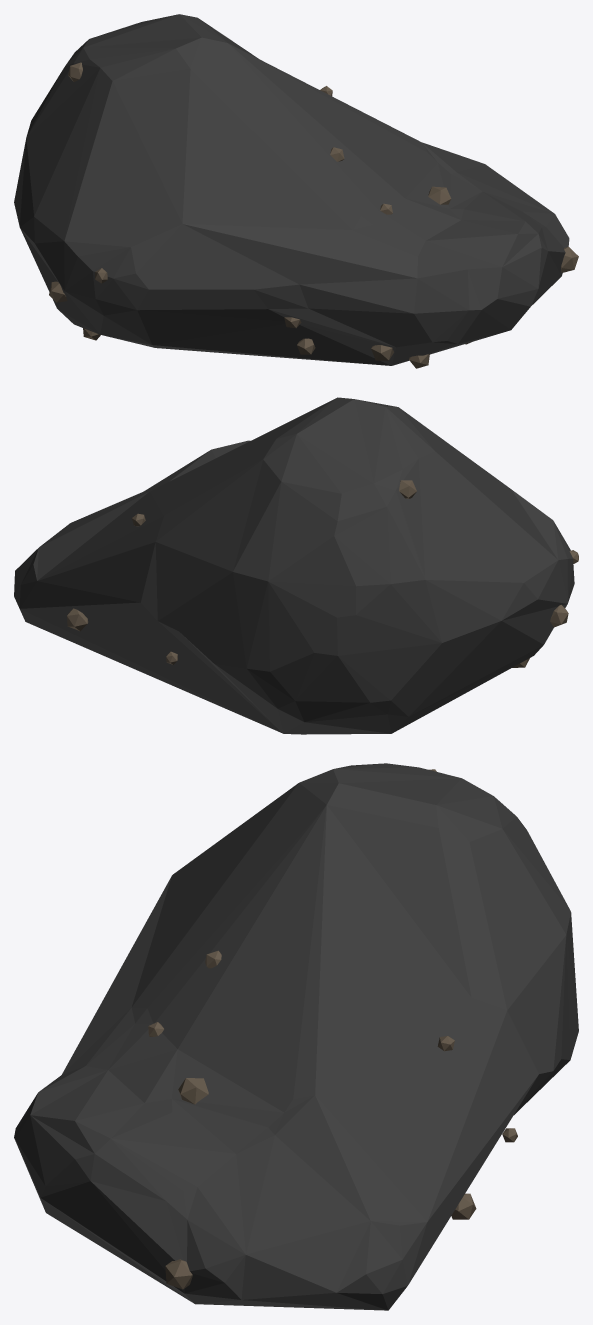
The model's file is Lowpoly_IronRock04.fbx.
The picture shows the model from 3 angles, top to bottom: view 1: azimuth 30°, elevation 25°; view 2: azimuth 150°, elevation 25°; view 3: azimuth 270°, elevation 25°; orthographic projection. The views are drawn at different scales.
Visible parts, largest first — view 1: IronRock04; view 2: IronRock04; view 3: IronRock04.
Boxes of the visible parts, <box> form: IronRock04: <box>14,14,578,368</box>; IronRock04: <box>14,397,578,734</box>; IronRock04: <box>14,763,578,1310</box>.
Size of the model in its own units: 1131 by 690 by 876.
